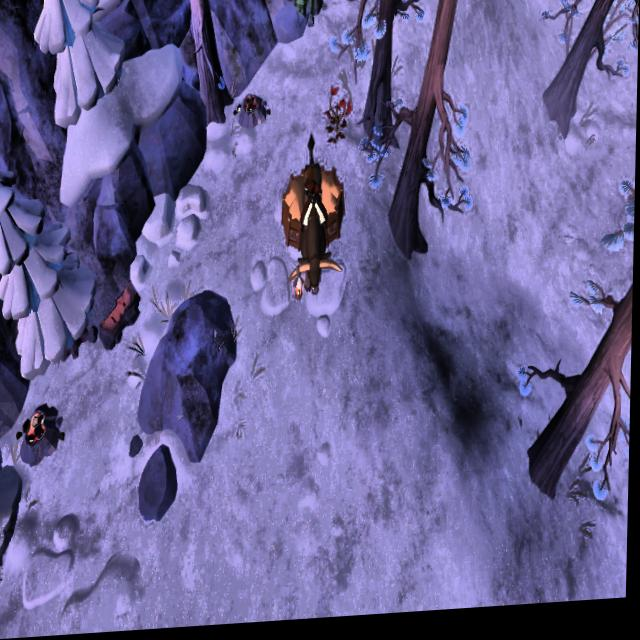rock_t3: (286, 0, 329, 35)
